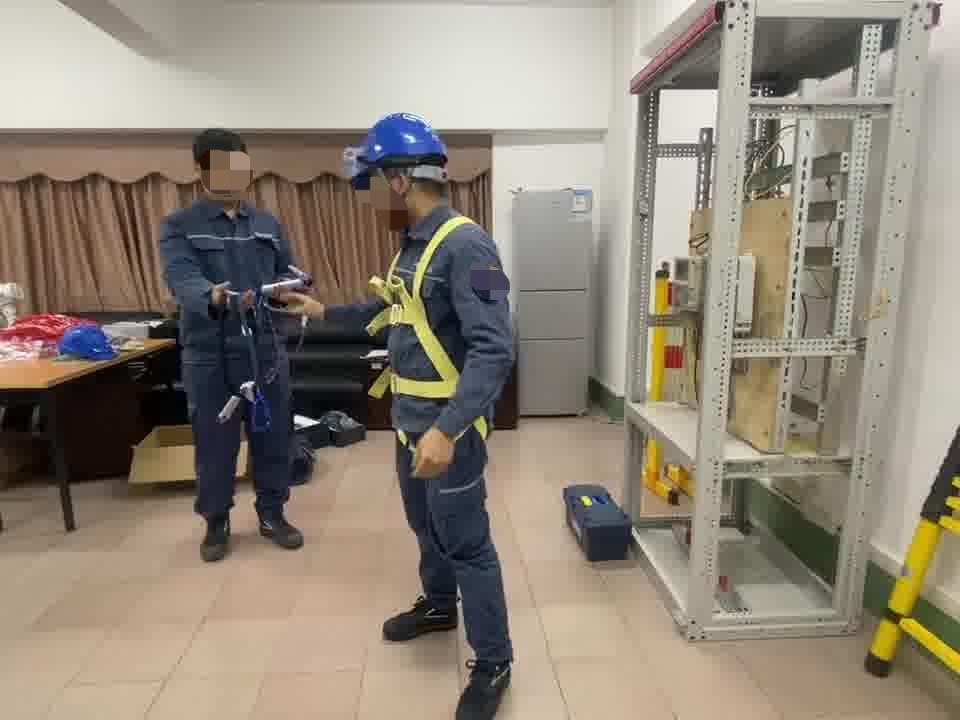halt: (352, 115, 456, 218)
inear: (377, 160, 420, 210)
unhalt: (193, 132, 255, 205)
